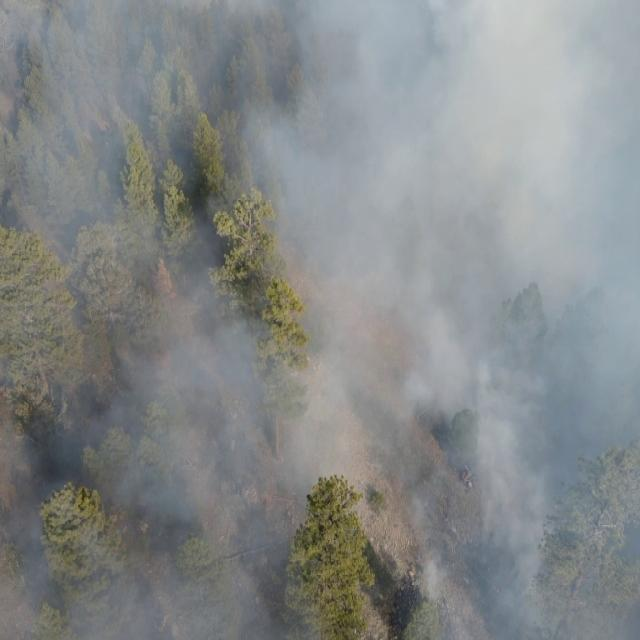smoke: (0, 0, 297, 640), (368, 0, 640, 640), (298, 0, 368, 478), (296, 602, 320, 640), (296, 477, 310, 519), (353, 477, 368, 515)
